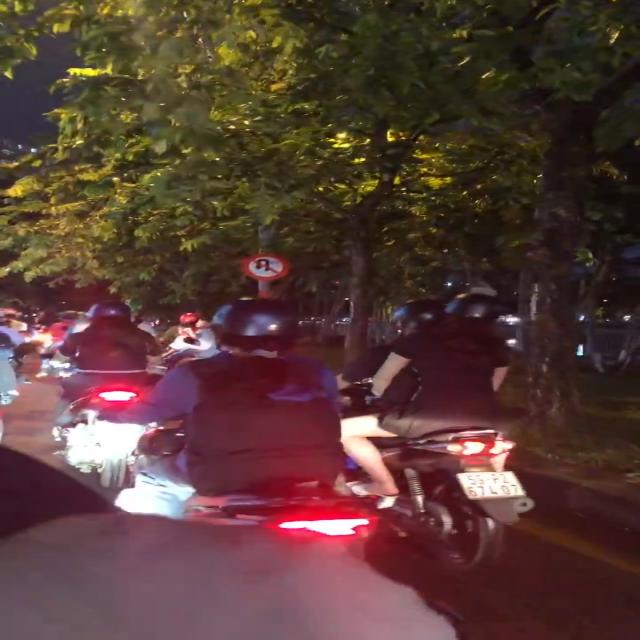Bien bao cam quay dau xe: (244, 255, 291, 281)
